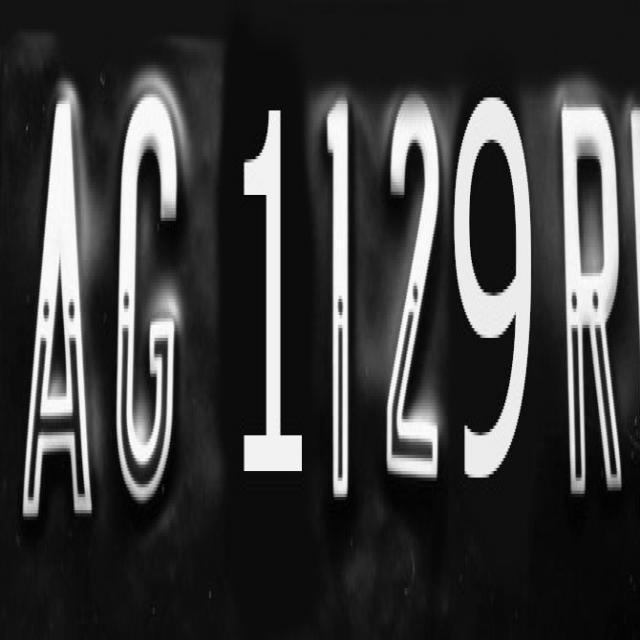1: (234, 97, 310, 473), (320, 106, 354, 514)
2: (388, 86, 432, 508)
9: (450, 83, 530, 483)
A: (1, 68, 106, 519)
G: (92, 72, 210, 514)
R: (562, 110, 628, 486)
